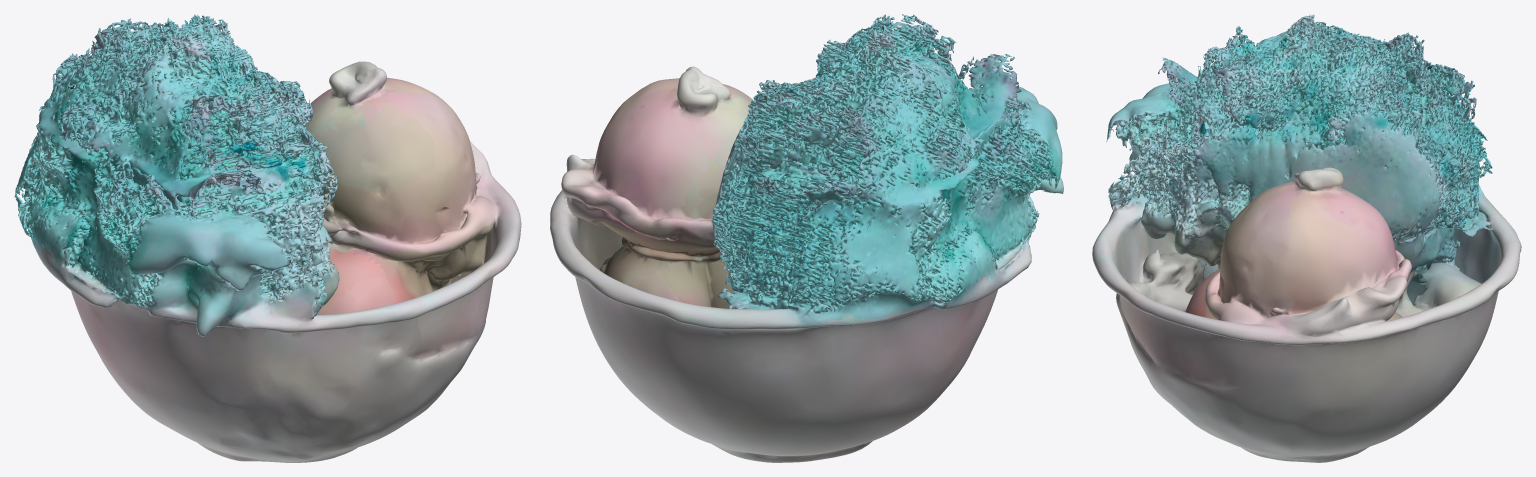
Rendered from Cotton_Candy.glb.
3 views of the same model, side by side, from view 1: azimuth 30°, elevation 25°; view 2: azimuth 150°, elevation 25°; view 3: azimuth 270°, elevation 25° (orthographic). The views are drawn at different scales.
Size of the model in its own units: 1.99 by 1.87 by 1.95.
1 material, 1 textured.
